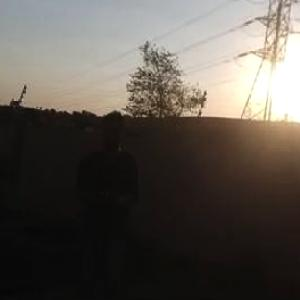follow: (72, 102, 157, 299)
